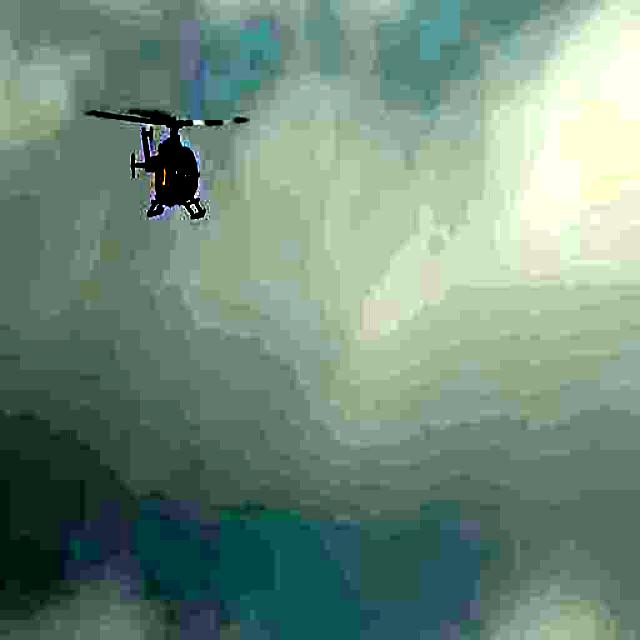drone: (104, 75, 224, 228)
